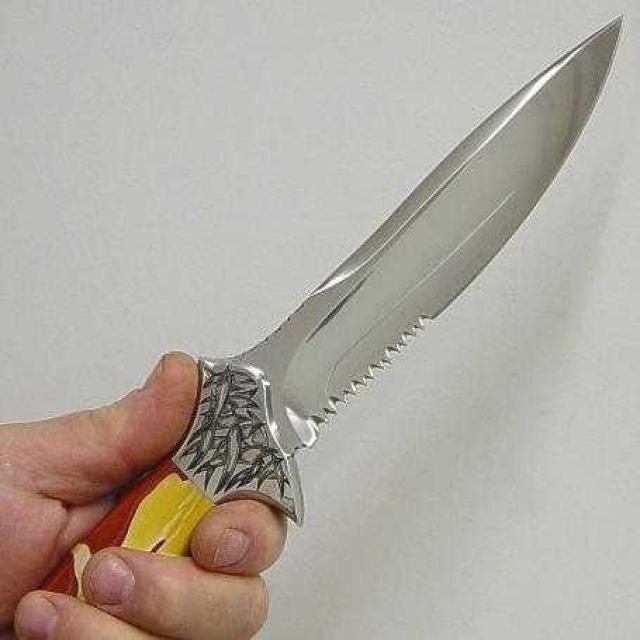Knife: (32, 0, 639, 632)
